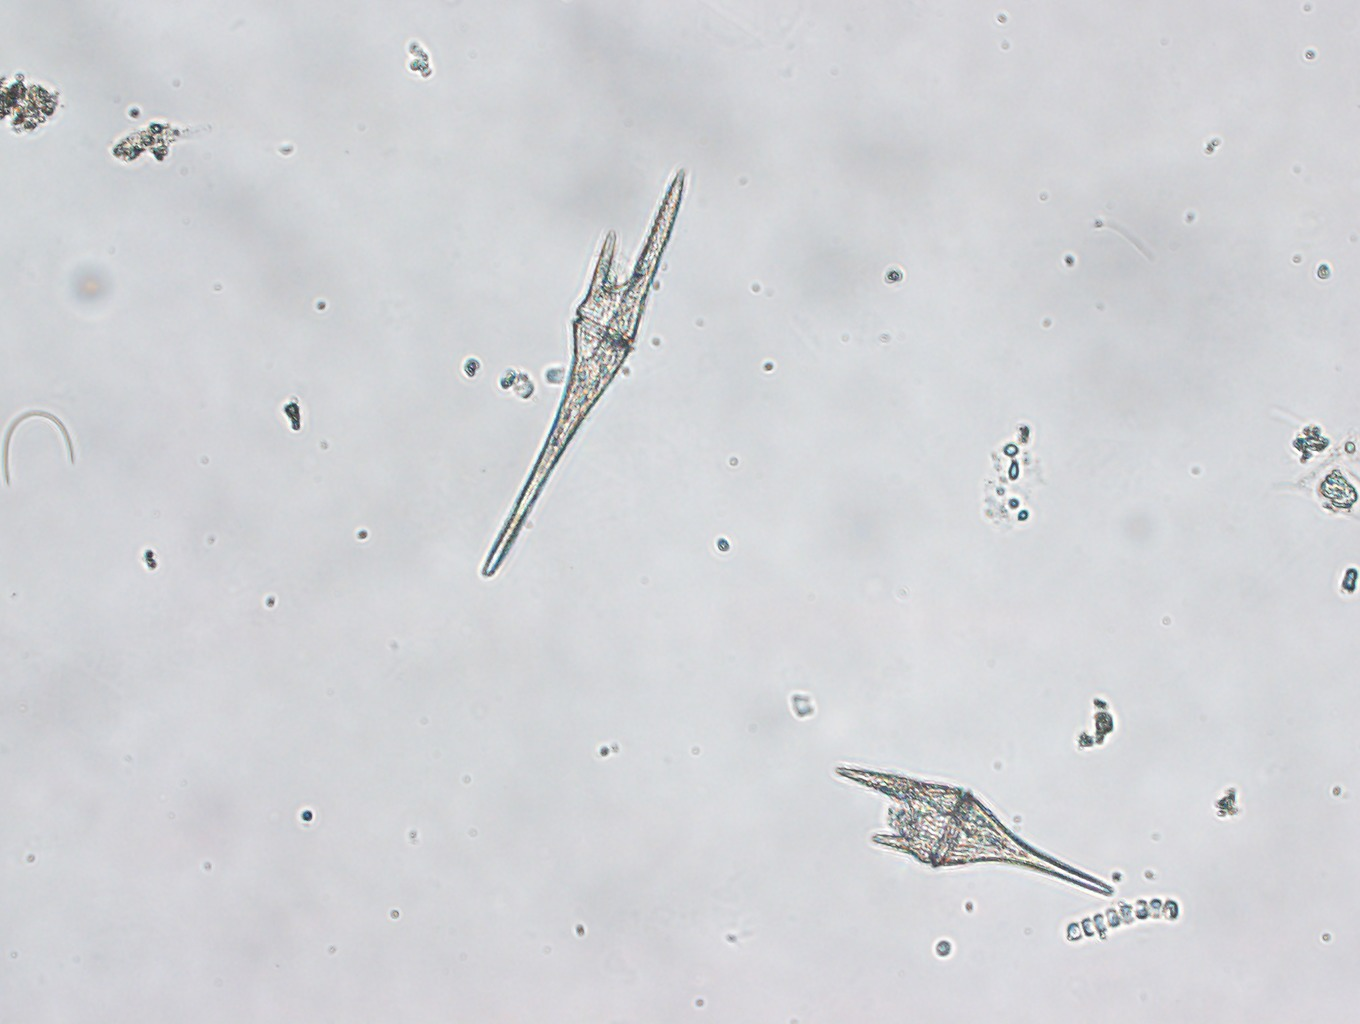ceratium furca: (478, 167, 687, 582), (835, 763, 1117, 895)
skeletonema: (1064, 894, 1180, 958)
